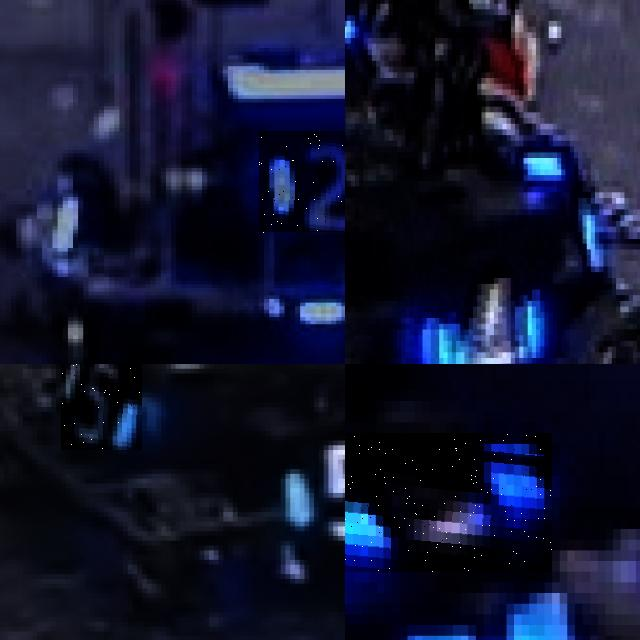B2: (259, 131, 345, 233)
B4: (410, 261, 553, 364)
B5: (345, 433, 552, 571), (280, 421, 345, 540), (61, 364, 142, 450)
